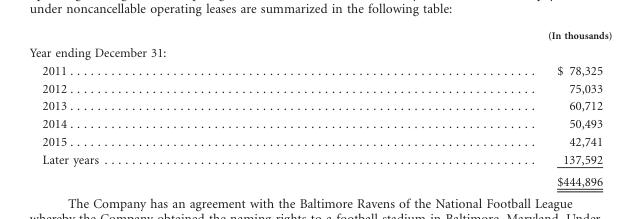table: (28, 29, 611, 187)
table column: (28, 29, 322, 187), (322, 29, 611, 187)
table column header: (28, 29, 611, 42)
table projected row header: (28, 42, 611, 61)
table row: (28, 150, 611, 170), (28, 42, 611, 61), (28, 61, 611, 79), (28, 96, 611, 114), (28, 114, 611, 132), (28, 132, 611, 150), (28, 79, 611, 96), (28, 170, 611, 187), (28, 29, 611, 42)
